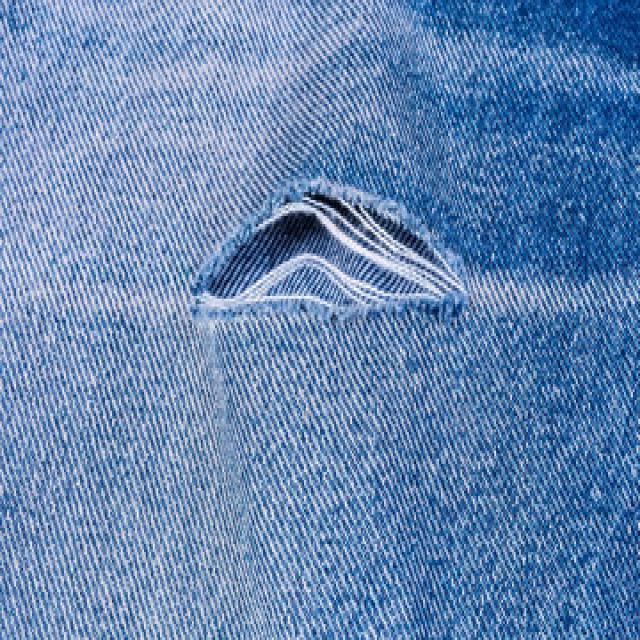Hole: (190, 179, 468, 319)
